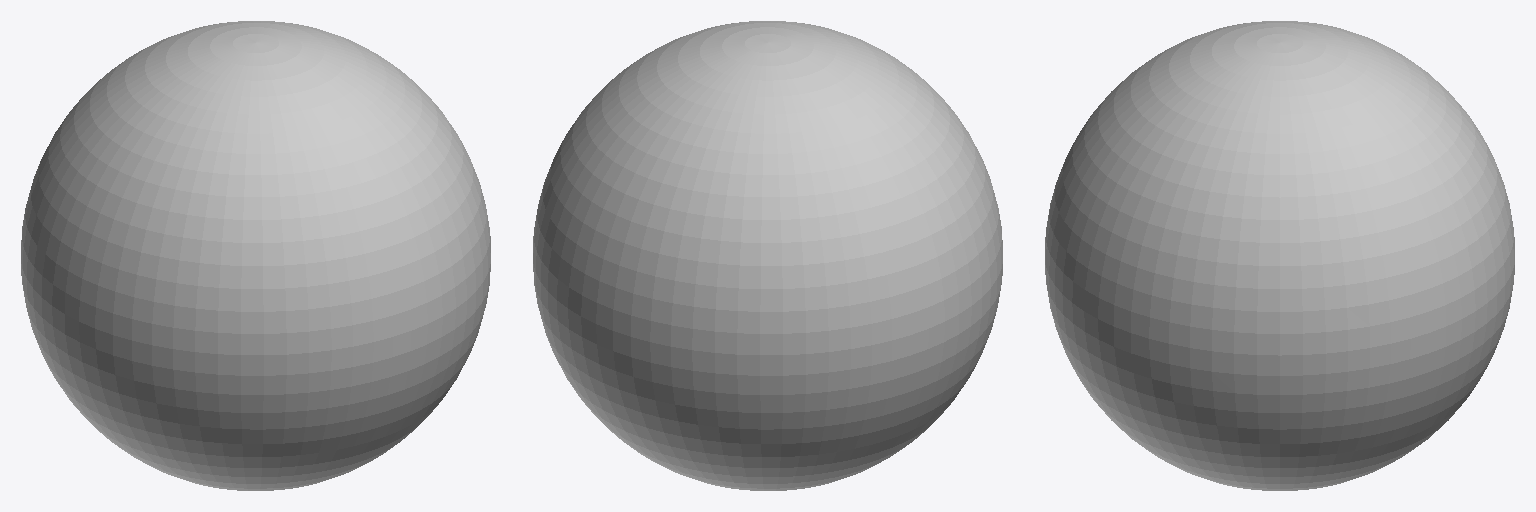
File: venus.obj
The picture shows the model from 3 angles: view 1: azimuth 30°, elevation 25°; view 2: azimuth 150°, elevation 25°; view 3: azimuth 270°, elevation 25°; orthographic projection.
Parts seen in each view (by area): view 1: Esfera_UV; view 2: Esfera_UV; view 3: Esfera_UV.
Boxes of the visible parts, box(x1,y1,x2,y2) form: Esfera_UV: box(21, 21, 490, 490); Esfera_UV: box(533, 21, 1002, 490); Esfera_UV: box(1045, 21, 1514, 490).
Bounding box in the file's own units: 1.9 × 1.9 × 1.9.